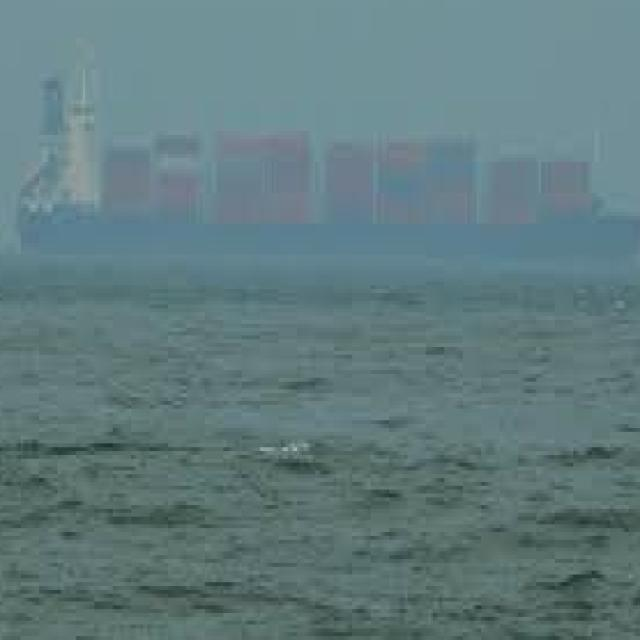cargoship: (21, 57, 640, 262)
